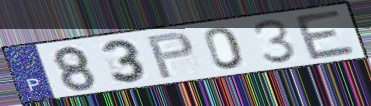0: (203, 26, 246, 71)
3: (99, 37, 149, 85), (252, 18, 298, 65)
8: (50, 43, 98, 93)
E: (291, 7, 360, 62)
P: (144, 30, 197, 81)
